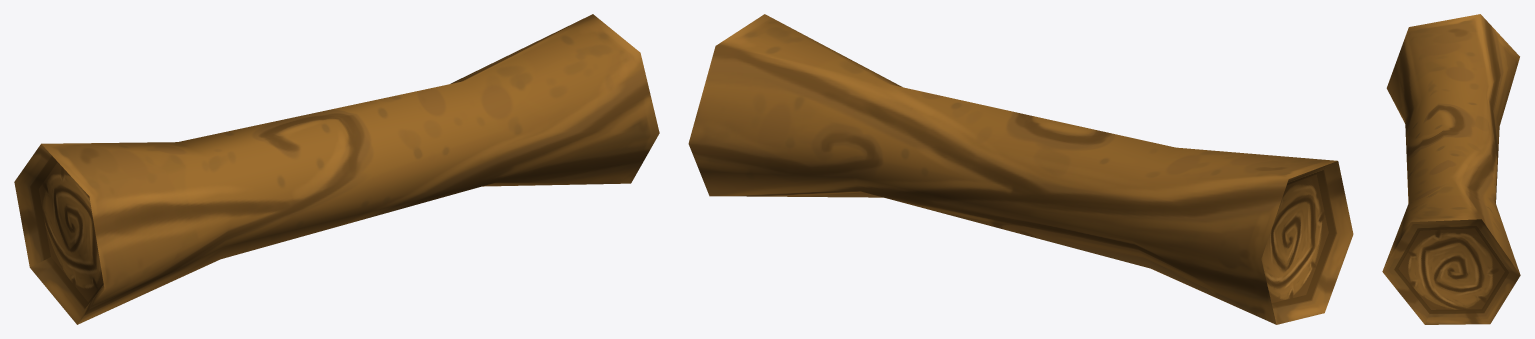
The model's file is Log.fbx.
3 renders of one model, left to right at view 1: azimuth 30°, elevation 25°; view 2: azimuth 150°, elevation 25°; view 3: azimuth 270°, elevation 25°, orthographic. The views are drawn at different scales.
Visible parts, largest first — view 1: Log; view 2: Log; view 3: Log.
Boxes of the visible parts, x1,y1,x2,y2 form: Log: (14, 14, 659, 324); Log: (688, 14, 1353, 324); Log: (1382, 14, 1520, 324).
Size of the model in its own units: 12.33 by 3.31 by 3.58.
